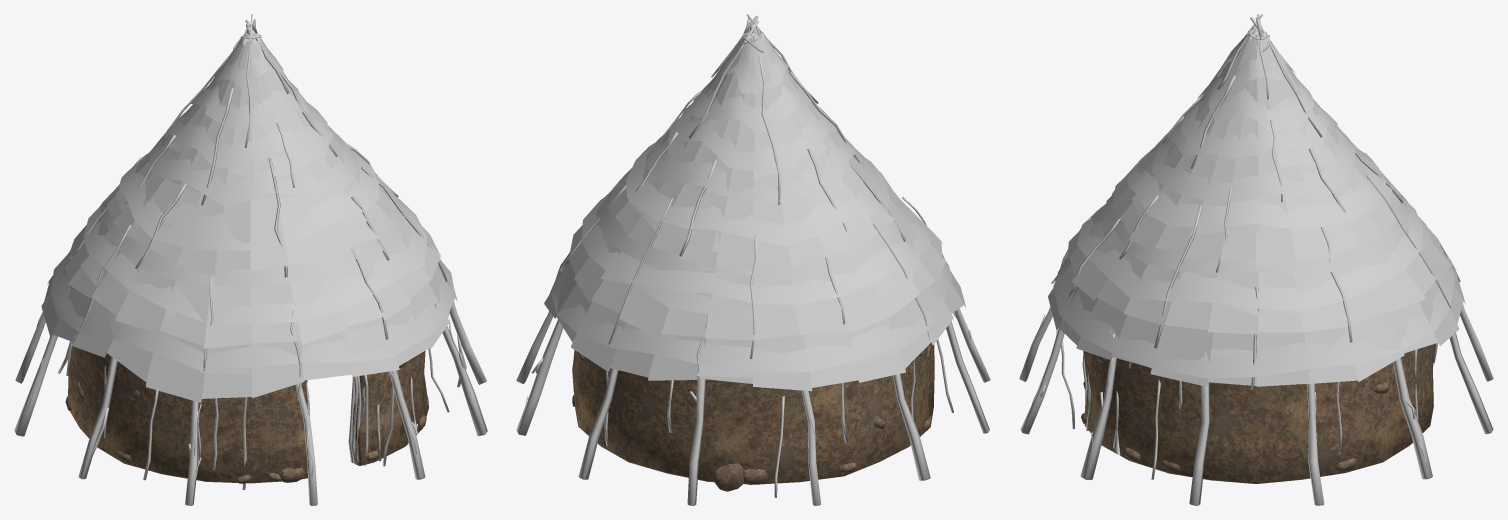
The model's file is lowpoly_african_hut_001.obj.
3 renders of one model, left to right at view 1: azimuth 30°, elevation 25°; view 2: azimuth 150°, elevation 25°; view 3: azimuth 270°, elevation 25°, orthographic.
Parts seen in each view (by area): view 1: lowpoly_african_hut_001; view 2: lowpoly_african_hut_001; view 3: lowpoly_african_hut_001.
Part boxes in pixels (left/top/right/bottom): lowpoly_african_hut_001: left=14, top=14, right=487, bottom=505; lowpoly_african_hut_001: left=516, top=14, right=990, bottom=505; lowpoly_african_hut_001: left=1019, top=14, right=1493, bottom=505.
Bounding box in the file's own units: 4.54 × 4.25 × 4.53.
